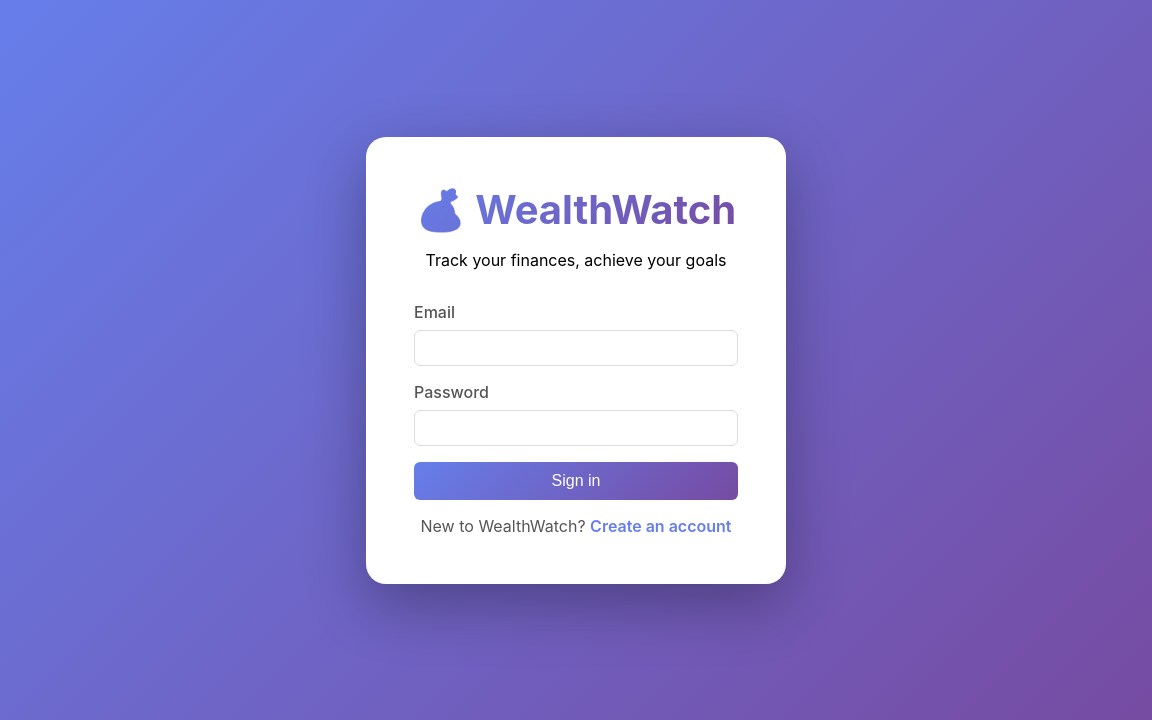
Test: creating an account that needs confirming says to check email
The image size is (1152, 720).
Click the button "Create an account": [661, 526] box [590, 516, 732, 536]
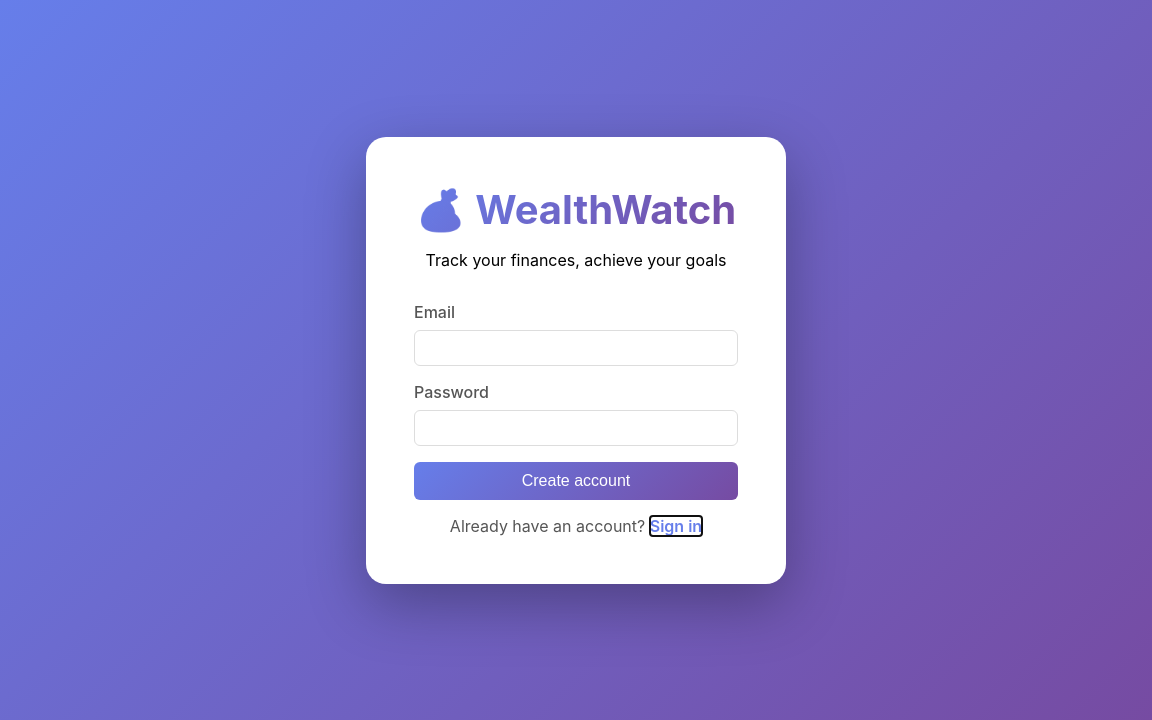
In the field labelled "Email": [576, 348] box [414, 330, 738, 366], type "new@example.com"
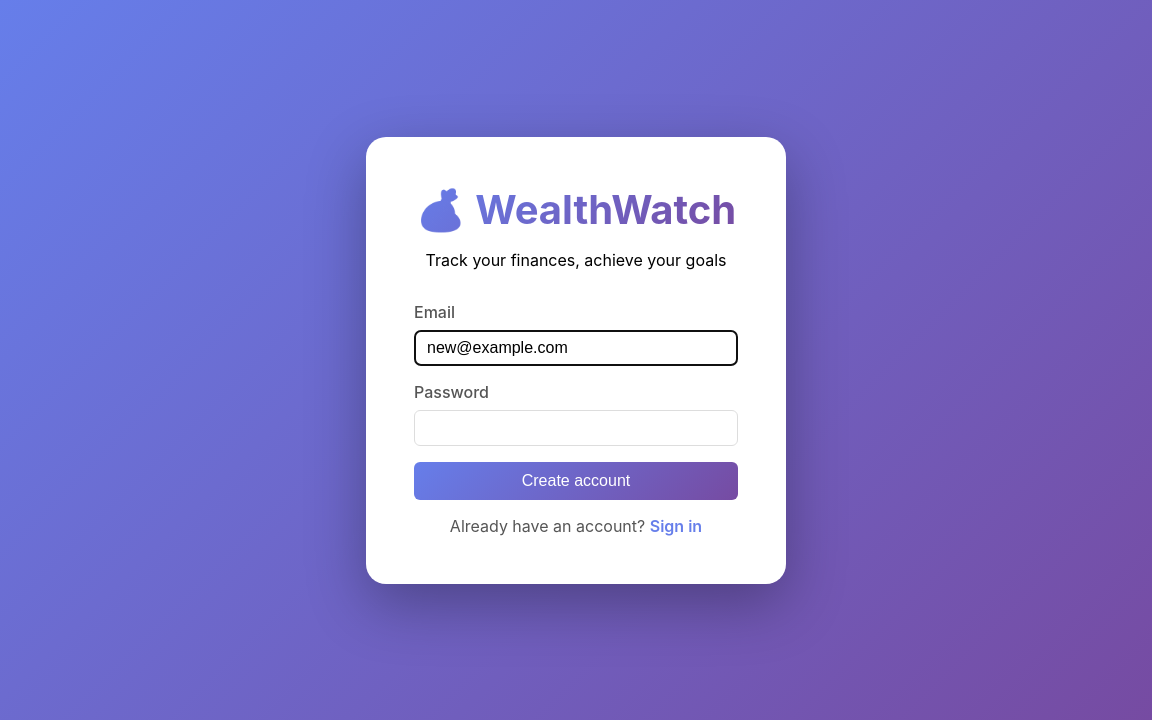
In the password field labelled "Password": [576, 428] box [414, 410, 738, 446], type "correct horse"
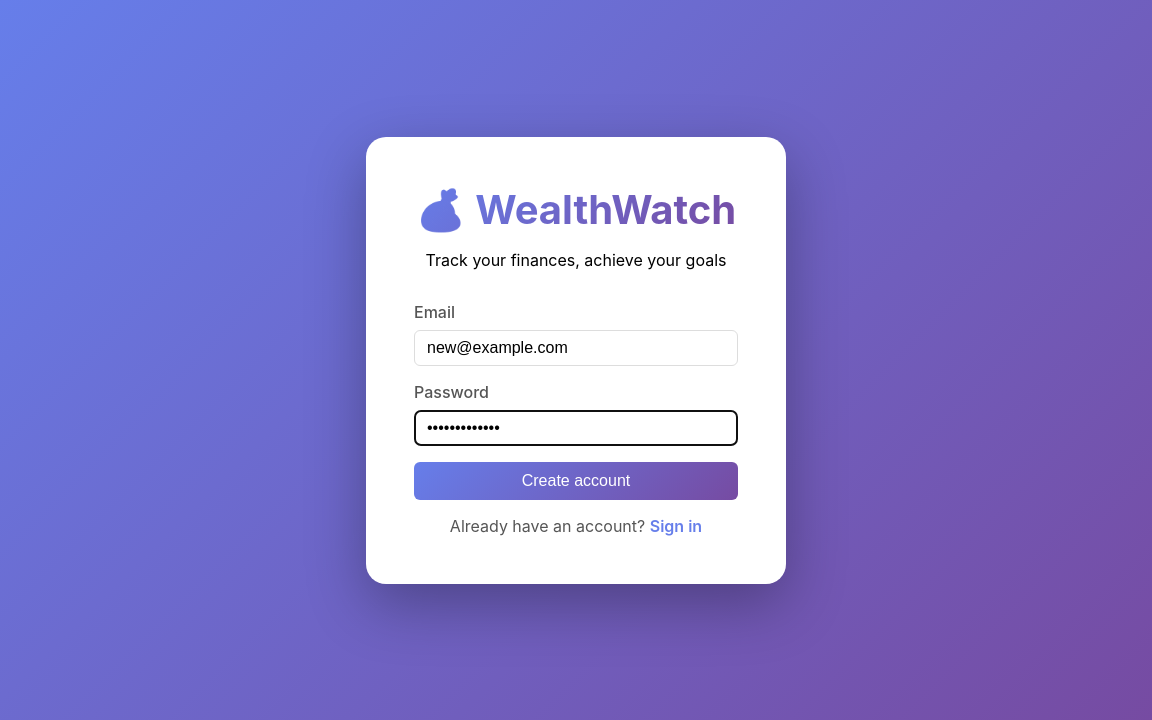
Click the button "Create account": [576, 480] box [414, 462, 738, 500]
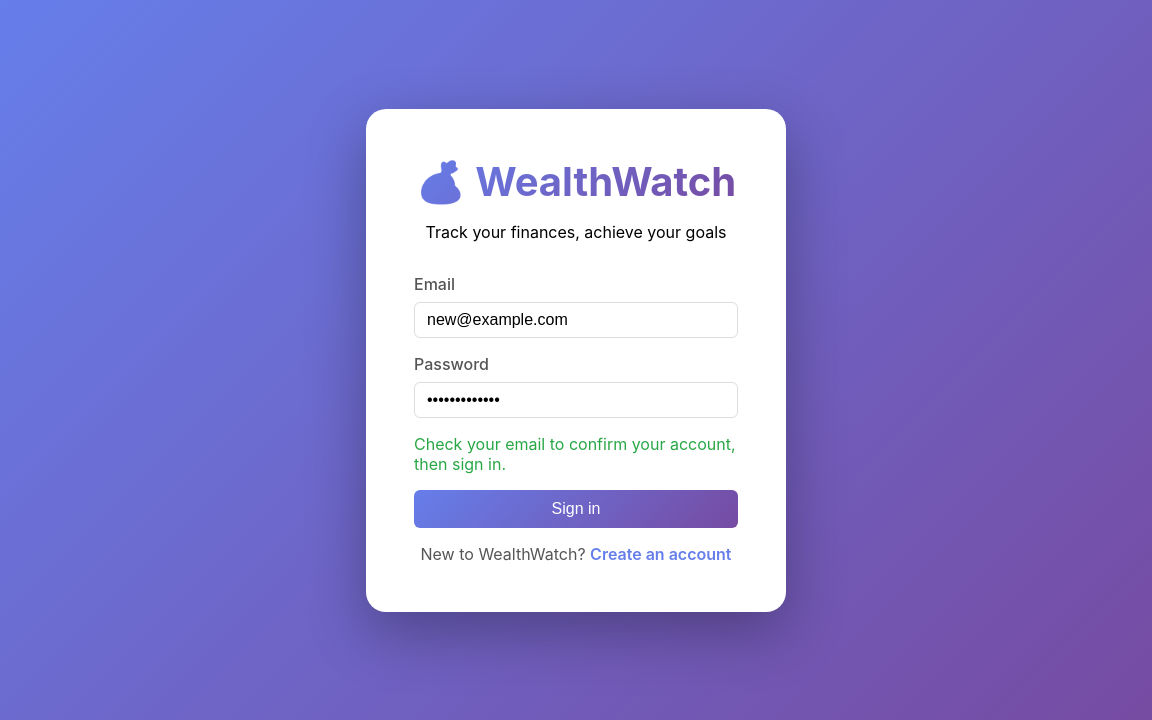
expect the text "Check your email to confirm your account, then sign in." is shown: met, box [414, 434, 738, 474]
